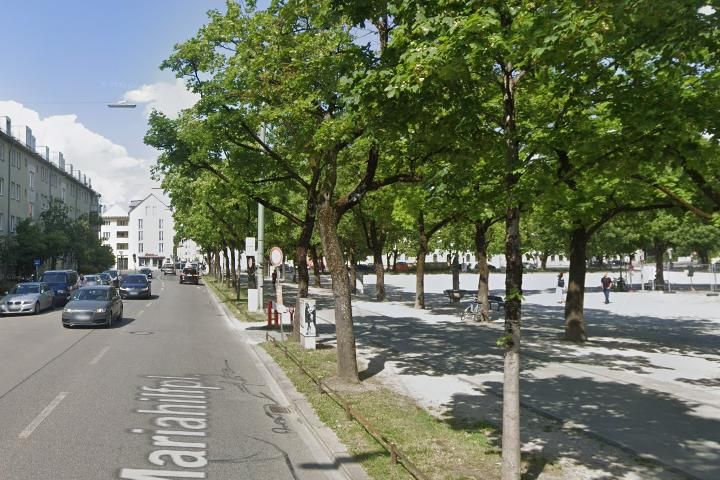traffic_sign: (269, 246, 284, 267)
vehicle: (60, 283, 125, 332), (1, 279, 62, 318), (116, 273, 153, 302), (178, 266, 199, 286), (162, 265, 175, 277)
